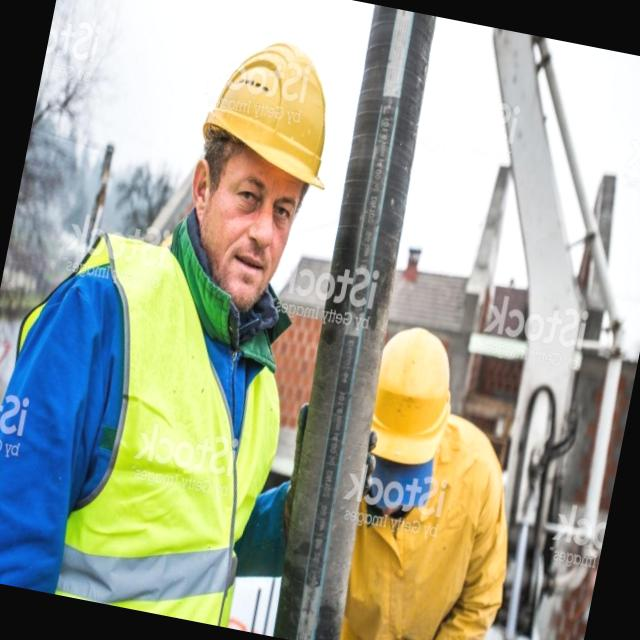helmet: (188, 23, 358, 196)
vest: (28, 242, 313, 618)
